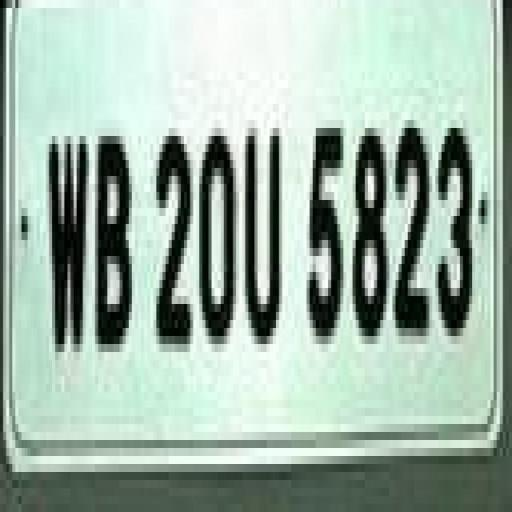number plate: (0, 0, 487, 472)
